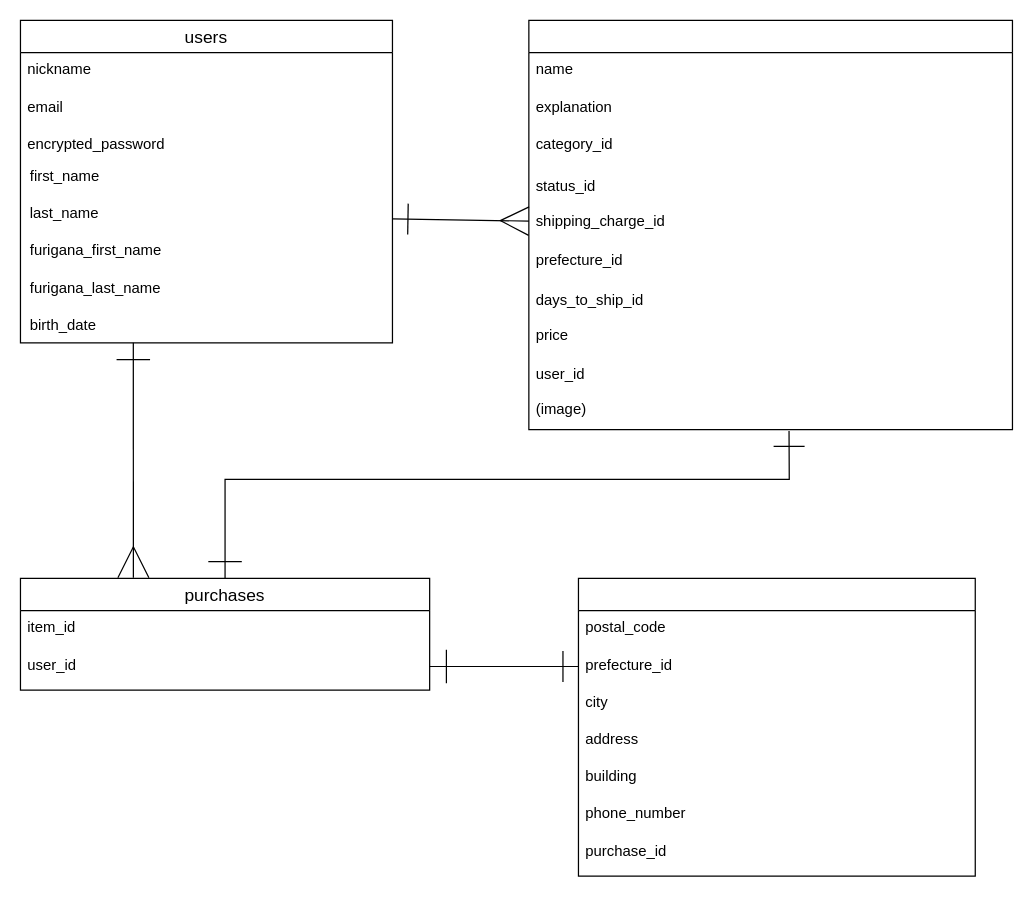
This 1033x897 diagram has some shape labels left out. The shapes that lost their labels are listed below. From the top down, each one's box as (x1, y1, x2, y2) in pixels, then its label:
(528, 19, 1012, 430): items
(577, 577, 975, 876): receiver_addresses
